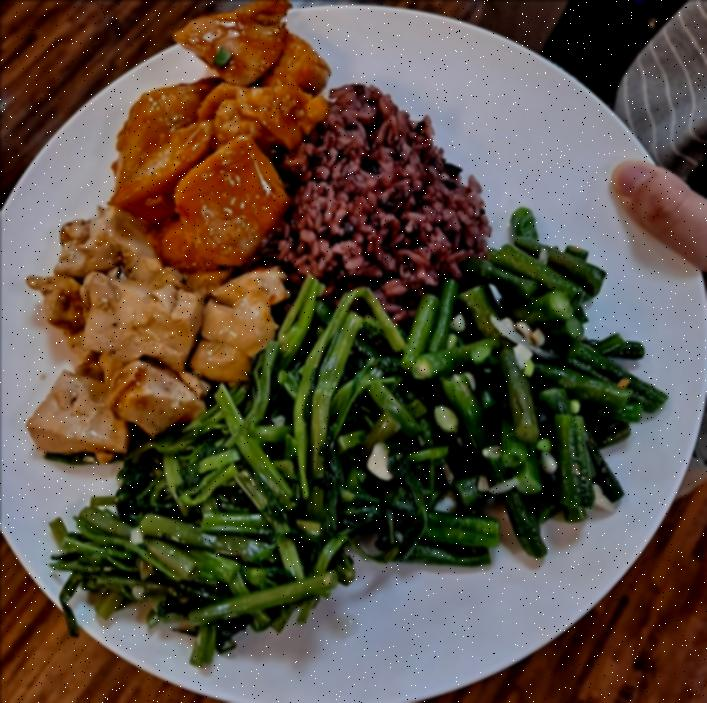plate: (0, 4, 707, 703)
purple rice: (283, 80, 487, 302)
side dish: (68, 286, 418, 652), (415, 207, 668, 560), (29, 214, 282, 463)
spicy chicken: (102, 2, 324, 273)
